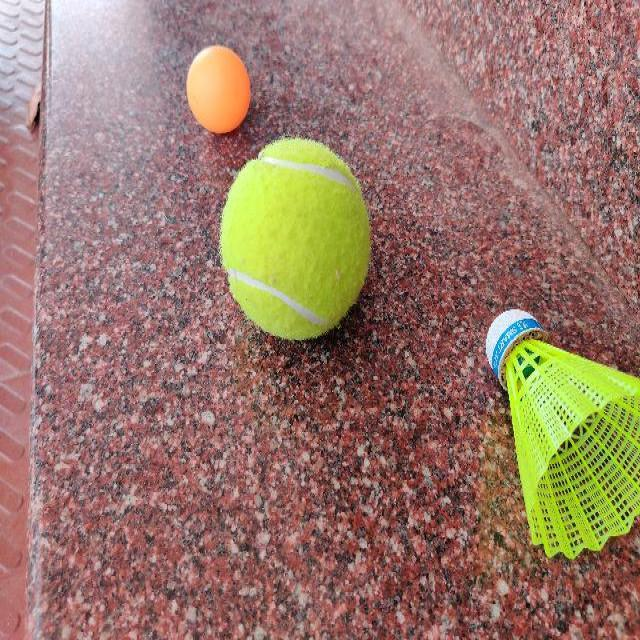oball: (186, 44, 248, 135)
